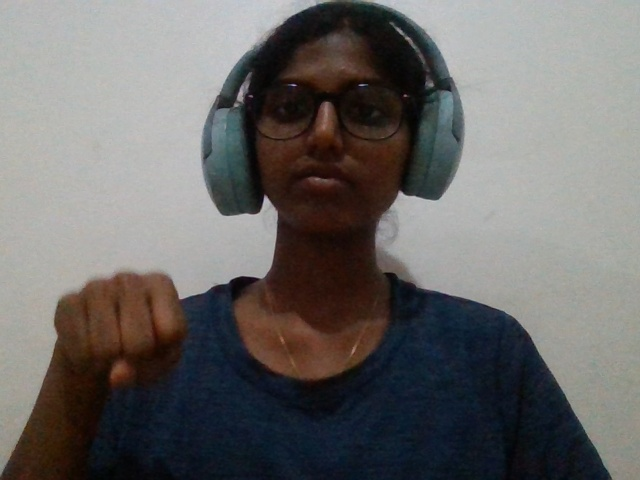Yes: (29, 247, 221, 435)
